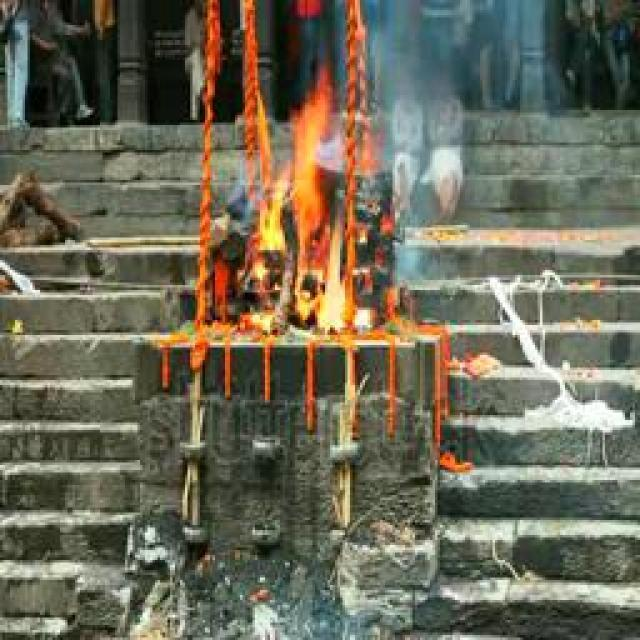Fire: (248, 92, 376, 332)
